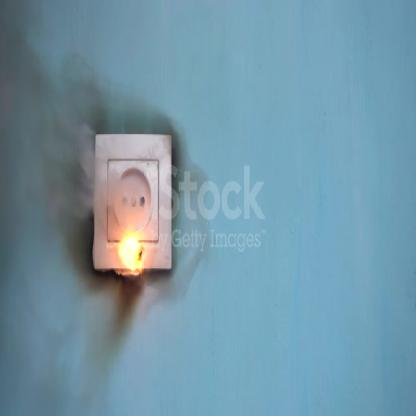fire: (117, 228, 143, 279)
smoke: (0, 3, 216, 416)
